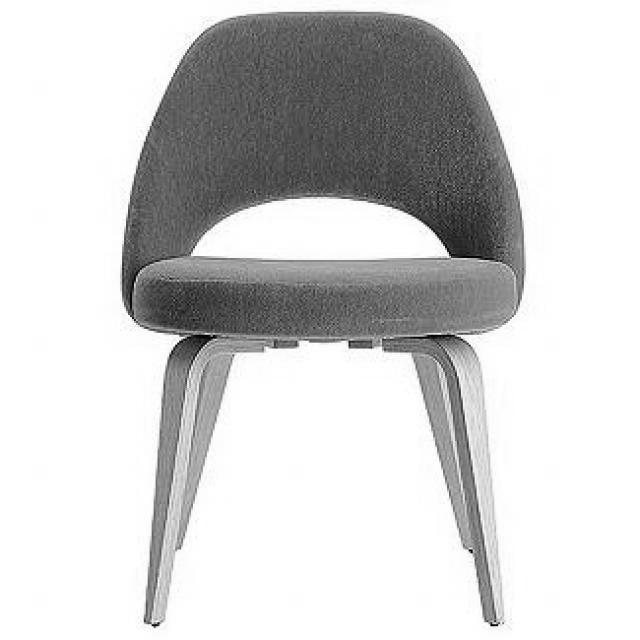chair: (122, 11, 530, 628)
